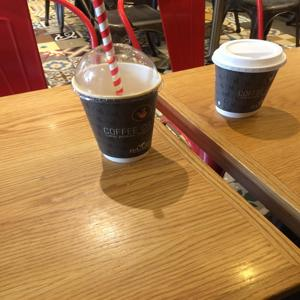cardboard: (68, 73, 164, 159), (209, 65, 287, 120)
plastic: (69, 41, 174, 101), (204, 30, 294, 74)
